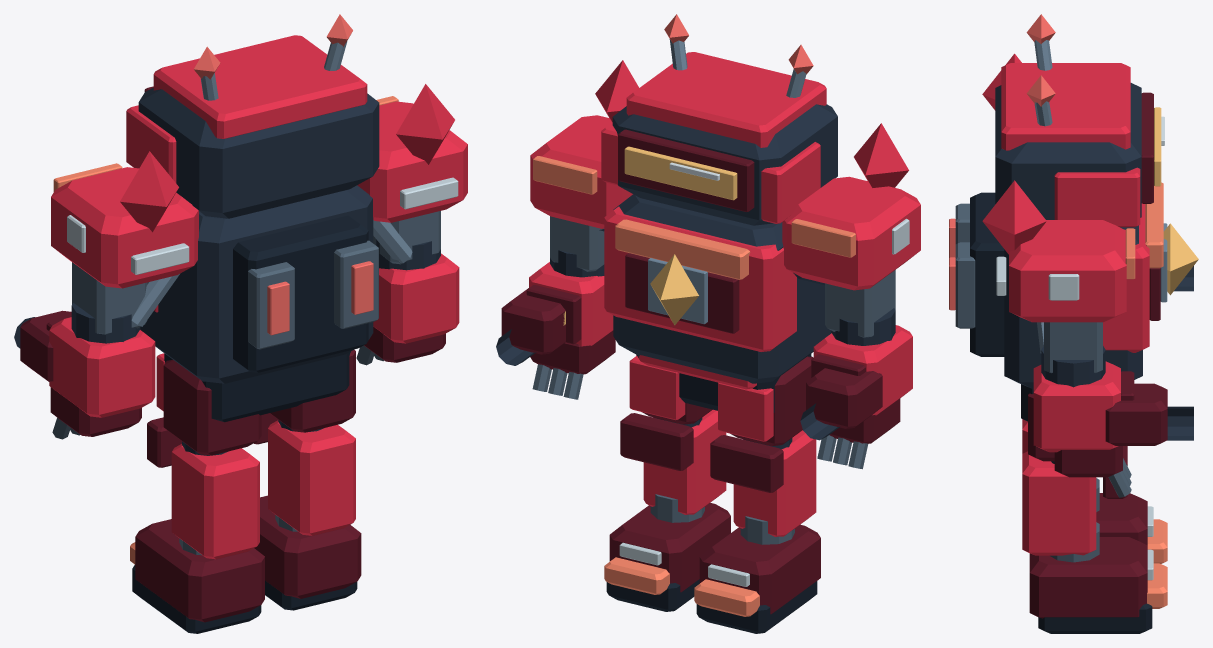
File: S2_RedEnemyRobot.obj
3 views of the same model, side by side, from view 1: azimuth 30°, elevation 25°; view 2: azimuth 150°, elevation 25°; view 3: azimuth 270°, elevation 25° (orthographic). The views are drawn at different scales.
Parts seen in each view (by area): view 1: P12_OversizedHelmet_65, P12_MainTorsoFrame_23, P12_HelmetArmourCrown_66, P12_Backpack_59, P12_MassiveShoulderCap_30, P12_LowerShinArmour_5, P12_LowerShinArmour_15, P12_MassiveTacticalBoot_2, P12_ArmoredForearm_35, P12_MassiveTacticalBoot_12, P12_MassiveShoulderCap_45, P12_ArmoredForearm_50 (+24 smaller); view 2: P12_MainTorsoFrame_23, P12_HelmetArmourCrown_66, P12_MassiveShoulderCap_30, P12_Breastplate_24, P12_OversizedHelmet_65, P12_MassiveTacticalBoot_2, P12_MassiveShoulderCap_45, P12_MassiveTacticalBoot_12, P12_LowerShinArmour_5, P12_ArmourRib_25, P12_BroadVisorBezel_67, P12_LowerShinArmour_15 (+39 smaller); view 3: P12_MassiveShoulderCap_45, P12_HelmetArmourCrown_66, P12_MassiveTacticalBoot_12, P12_OversizedHelmet_65, P12_LowerShinArmour_15, P12_ArmoredForearm_50, P12_HelmetCheek_74, P12_Backpack_59, P12_MainTorsoFrame_23, P12_EnemyWeaponPod_81, P12_Breastplate_24, P12_EnemyThreatSpike_83 (+28 smaller).
Boxes of the visible parts, x1=… form: P12_OversizedHelmet_65: x1=138, y1=87, x2=379, y2=218; P12_MainTorsoFrame_23: x1=140, y1=185, x2=373, y2=383; P12_HelmetArmourCrown_66: x1=153, y1=35, x2=367, y2=138; P12_Backpack_59: x1=233, y1=215, x2=368, y2=372; P12_MassiveShoulderCap_30: x1=51, y1=167, x2=198, y2=288; P12_LowerShinArmour_5: x1=171, y1=444, x2=259, y2=559; P12_LowerShinArmour_15: x1=268, y1=420, x2=355, y2=535; P12_MassiveTacticalBoot_2: x1=135, y1=519, x2=264, y2=622; P12_ArmoredForearm_35: x1=49, y1=317, x2=155, y2=417; P12_MassiveTacticalBoot_12: x1=254, y1=495, x2=361, y2=598; P12_MassiveShoulderCap_45: x1=357, y1=101, x2=467, y2=222; P12_ArmoredForearm_50: x1=373, y1=253, x2=459, y2=343; P12_MainTorsoFrame_23: x1=613, y1=194, x2=831, y2=383; P12_HelmetArmourCrown_66: x1=626, y1=52, x2=826, y2=147; P12_MassiveShoulderCap_30: x1=782, y1=176, x2=920, y2=290; P12_Breastplate_24: x1=604, y1=206, x2=796, y2=351; P12_OversizedHelmet_65: x1=612, y1=104, x2=837, y2=225; P12_MassiveTacticalBoot_2: x1=699, y1=524, x2=820, y2=614; P12_MassiveShoulderCap_45: x1=530, y1=115, x2=632, y2=228; P12_MassiveTacticalBoot_12: x1=609, y1=502, x2=730, y2=592; P12_LowerShinArmour_5: x1=733, y1=430, x2=816, y2=536; P12_ArmourRib_25: x1=615, y1=219, x2=750, y2=279; P12_BroadVisorBezel_67: x1=618, y1=129, x2=754, y2=211; P12_LowerShinArmour_15: x1=643, y1=409, x2=726, y2=514; P12_MassiveShoulderCap_45: x1=1009, y1=220, x2=1126, y2=322; P12_HelmetArmourCrown_66: x1=1001, y1=63, x2=1130, y2=150; P12_MassiveTacticalBoot_12: x1=1029, y1=537, x2=1147, y2=618; P12_OversizedHelmet_65: x1=995, y1=83, x2=1141, y2=219; P12_LowerShinArmour_15: x1=1022, y1=451, x2=1096, y2=555; P12_ArmoredForearm_50: x1=1033, y1=361, x2=1120, y2=452; P12_HelmetCheek_74: x1=1054, y1=167, x2=1140, y2=227; P12_Backpack_59: x1=970, y1=192, x2=1004, y2=356; P12_MainTorsoFrame_23: x1=1004, y1=225, x2=1142, y2=389; P12_EnemyWeaponPod_81: x1=1105, y1=383, x2=1167, y2=445; P12_Breastplate_24: x1=1103, y1=203, x2=1149, y2=352; P12_EnemyThreatSpike_83: x1=982, y1=180, x2=1046, y2=254.
Bounding box in the file's own units: 2.17 × 3.21 × 1.31.
